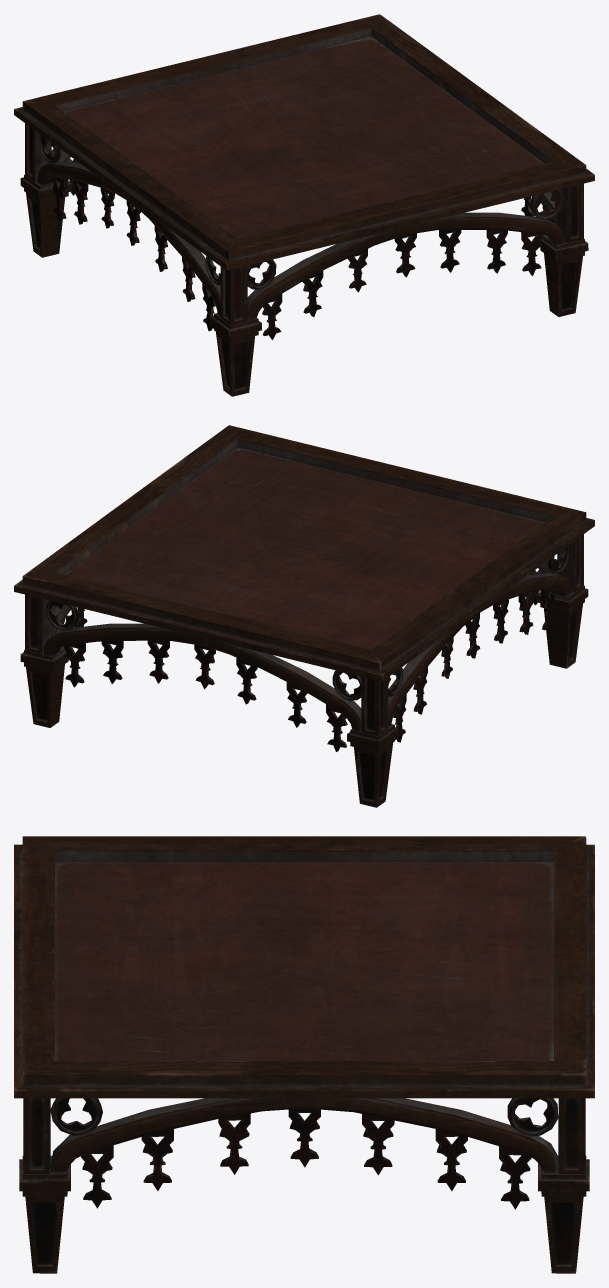
File: gothic_coffee_table.glb
3 views of the same model, one above another, from view 1: azimuth 30°, elevation 25°; view 2: azimuth 150°, elevation 25°; view 3: azimuth 270°, elevation 25° (orthographic). The views are drawn at different scales.
Visible parts, largest first — view 1: gothic_coffee_table; view 2: gothic_coffee_table; view 3: gothic_coffee_table.
Boxes of the visible parts, bbox=[...] form: gothic_coffee_table: bbox=[14, 14, 594, 396]; gothic_coffee_table: bbox=[14, 425, 594, 807]; gothic_coffee_table: bbox=[14, 836, 594, 1273].
Bounding box in the file's own units: 1.44 × 0.5574 × 1.44.
1 material, 1 textured.
